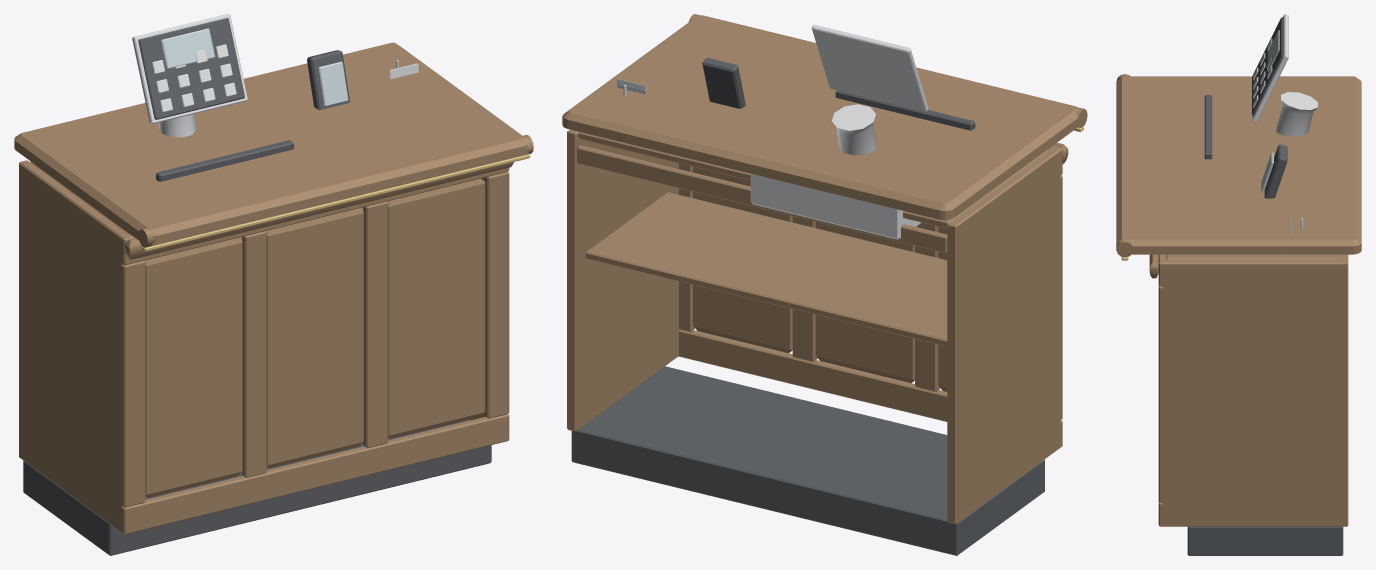
File: pubTill.glb
3 views of the same model, side by side, from view 1: azimuth 30°, elevation 25°; view 2: azimuth 150°, elevation 25°; view 3: azimuth 270°, elevation 25° (orthographic). The views are drawn at different scales.
Parts seen in each view (by area): view 1: bar-till-position, till-drawer; view 2: bar-till-position, till-drawer; view 3: bar-till-position, till-drawer.
Boxes of the visible parts, <box> form: bar-till-position: <box>14,14,533,555</box>; till-drawer: <box>156,140,293,181</box>; bar-till-position: <box>562,14,1087,555</box>; till-drawer: <box>835,90,975,130</box>; bar-till-position: <box>1116,14,1361,555</box>; till-drawer: <box>1204,95,1212,159</box>.
Size of the model in its own units: 1.2 by 1.37 by 0.74.
